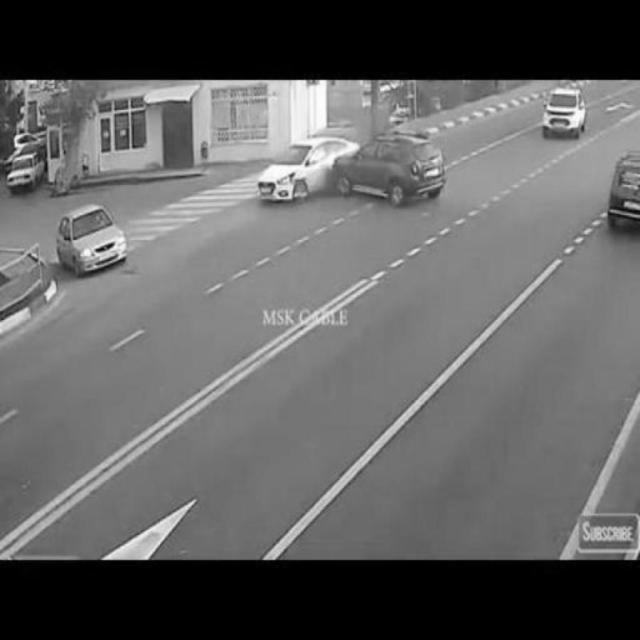accident: (255, 130, 452, 208)
vehicle: (58, 206, 129, 272), (540, 87, 582, 141)
